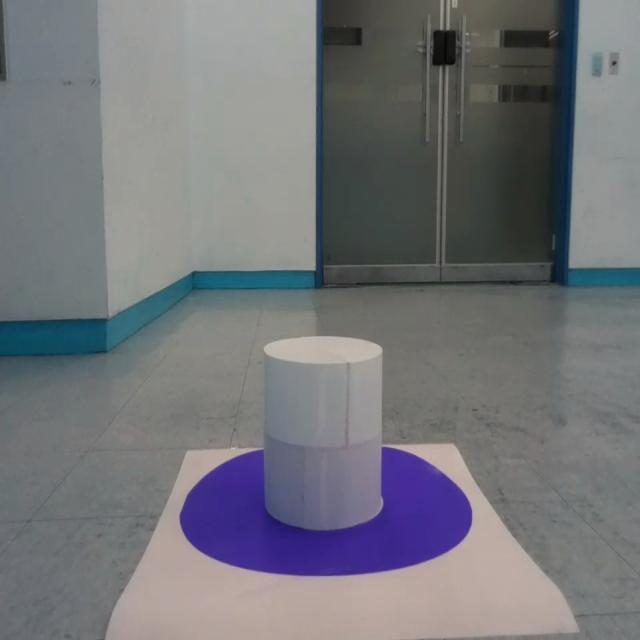cylinder: (260, 336, 384, 532)
